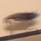cockroach: (6, 11, 39, 22)
